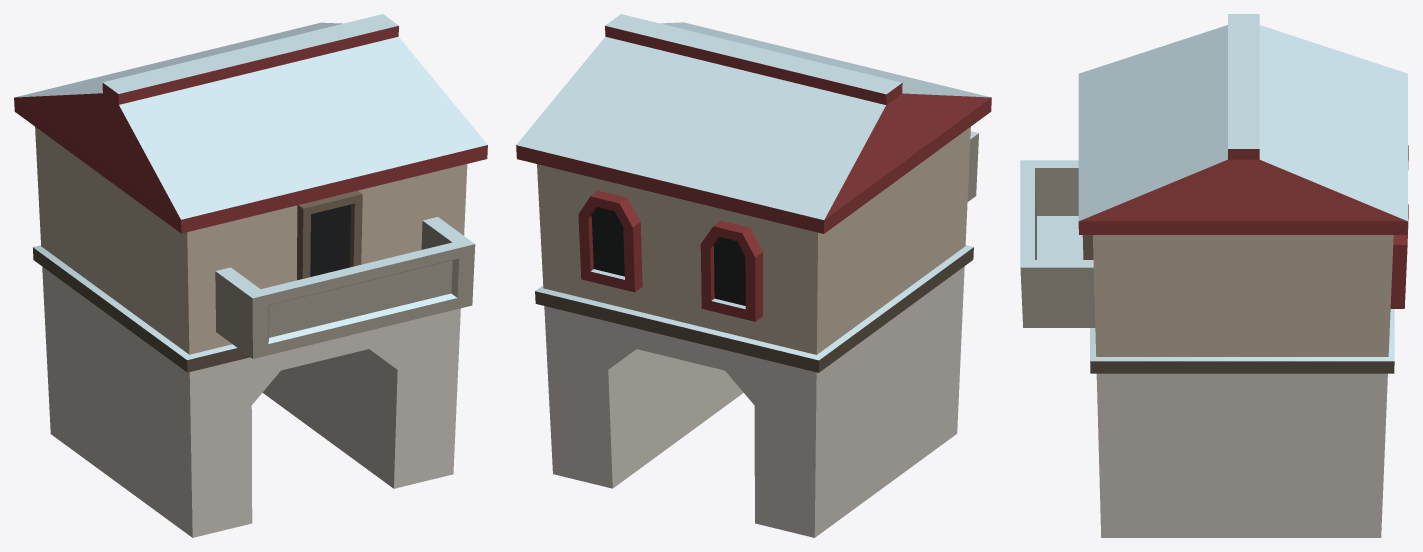
File: SM_Bld_Pirates_House_02_Snow.fbx
3 renders of one model, left to right at view 1: azimuth 30°, elevation 25°; view 2: azimuth 150°, elevation 25°; view 3: azimuth 270°, elevation 25°, orthographic.
Visible parts, largest first — view 1: SM_Bld_Pirates_House_02_Snow; view 2: SM_Bld_Pirates_House_02_Snow; view 3: SM_Bld_Pirates_House_02_Snow.
Part boxes in pixels (bbox=[...]): SM_Bld_Pirates_House_02_Snow: bbox=[14, 14, 487, 537]; SM_Bld_Pirates_House_02_Snow: bbox=[516, 14, 991, 537]; SM_Bld_Pirates_House_02_Snow: bbox=[1020, 14, 1408, 537].
Size of the model in its own units: 115 by 144 by 128.
Materials: 1 (1 with a texture image).
